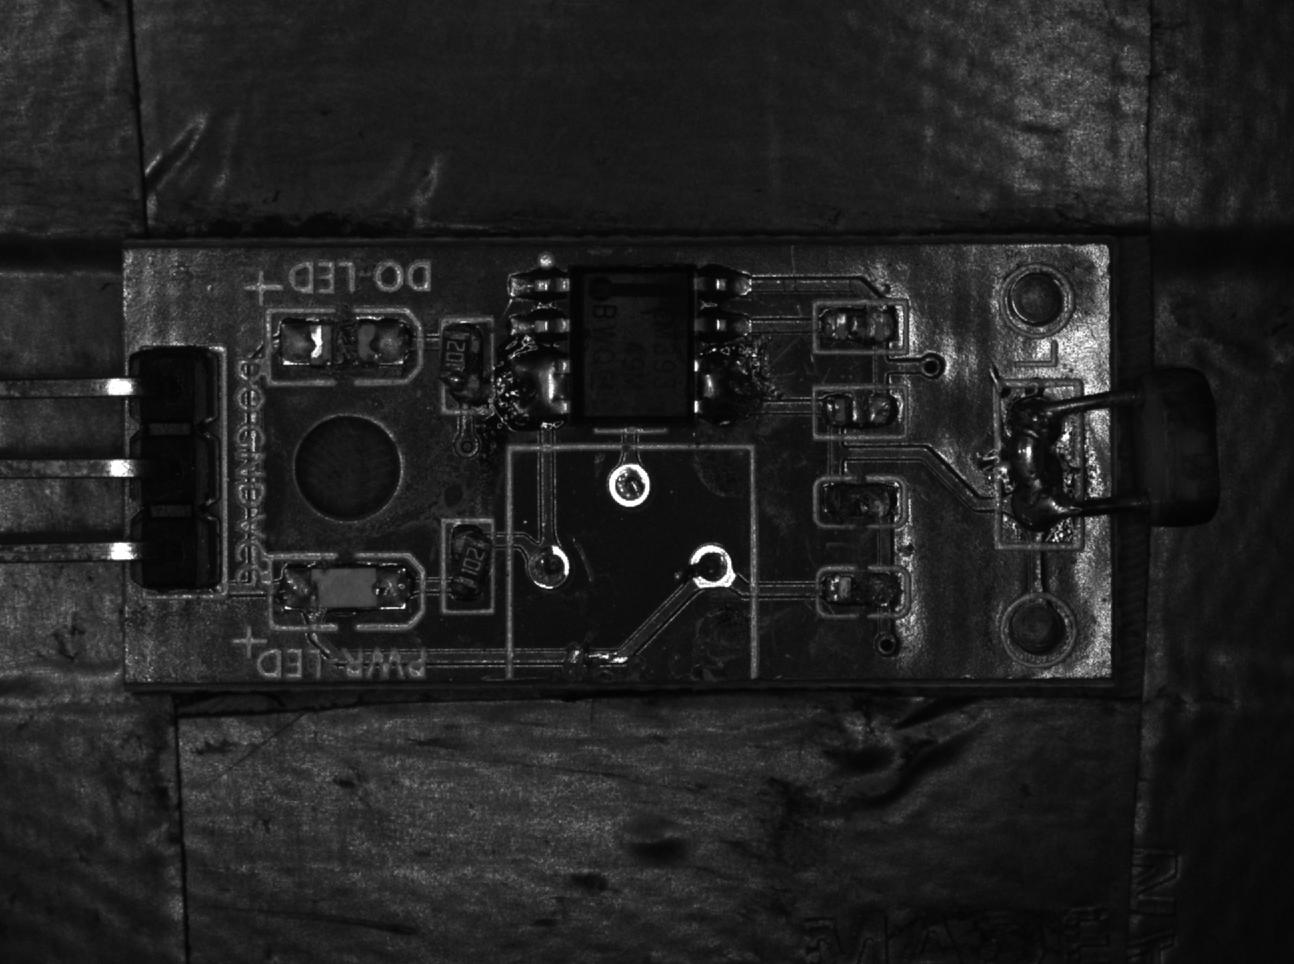bridge: (999, 380, 1078, 545), (696, 346, 767, 428), (503, 349, 571, 425)
lifted: (437, 319, 494, 414), (444, 517, 496, 611)
miss: (818, 561, 914, 619), (811, 474, 908, 529), (810, 301, 909, 350), (811, 388, 911, 435)
